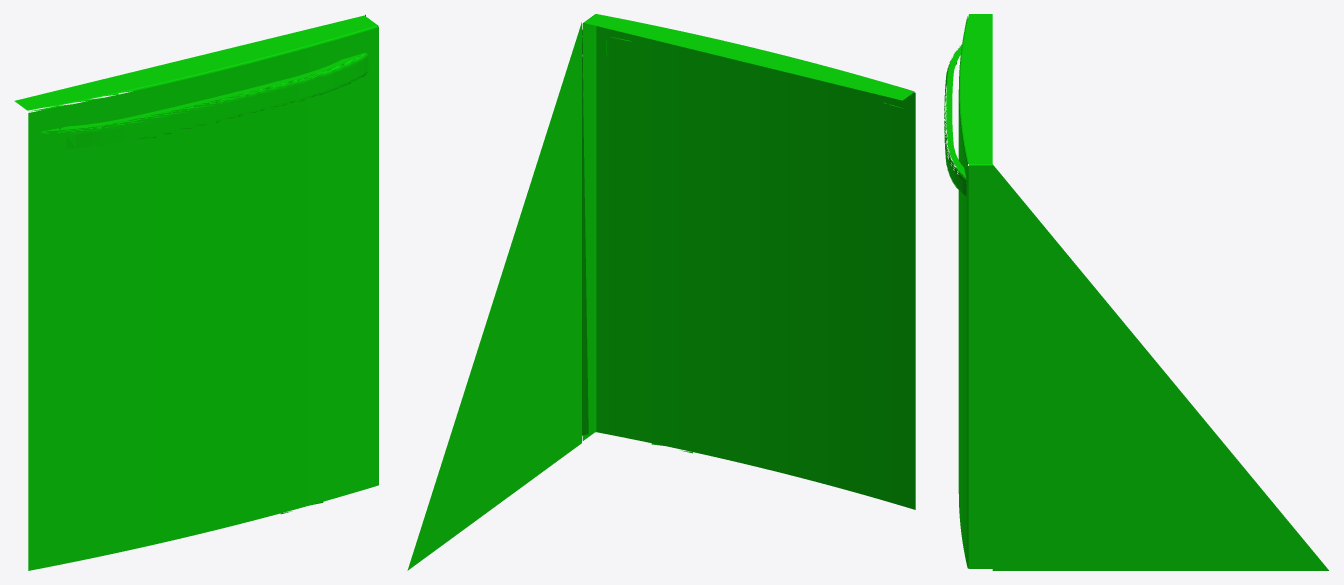
File: pred_area.obj
3 renders of one model, left to right at view 1: azimuth 30°, elevation 25°; view 2: azimuth 150°, elevation 25°; view 3: azimuth 270°, elevation 25°, orthographic. The views are drawn at different scales.
Size of the model in its own units: 1.04 by 1.31 by 1.12.
